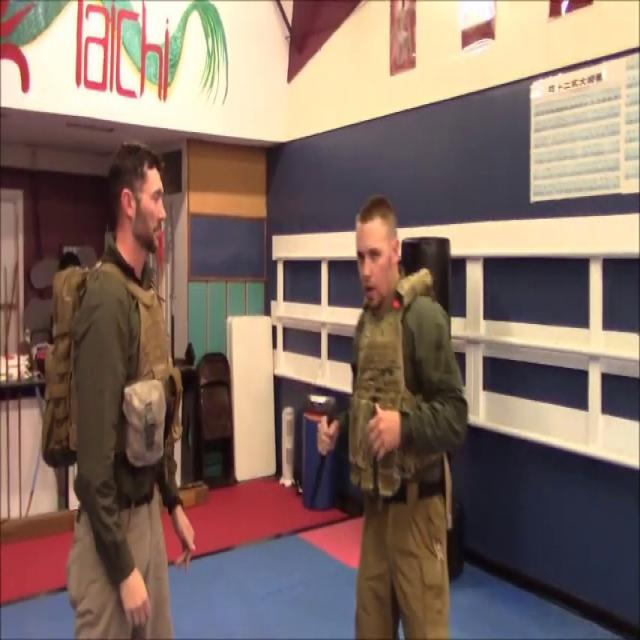knife: (304, 391, 340, 512)
